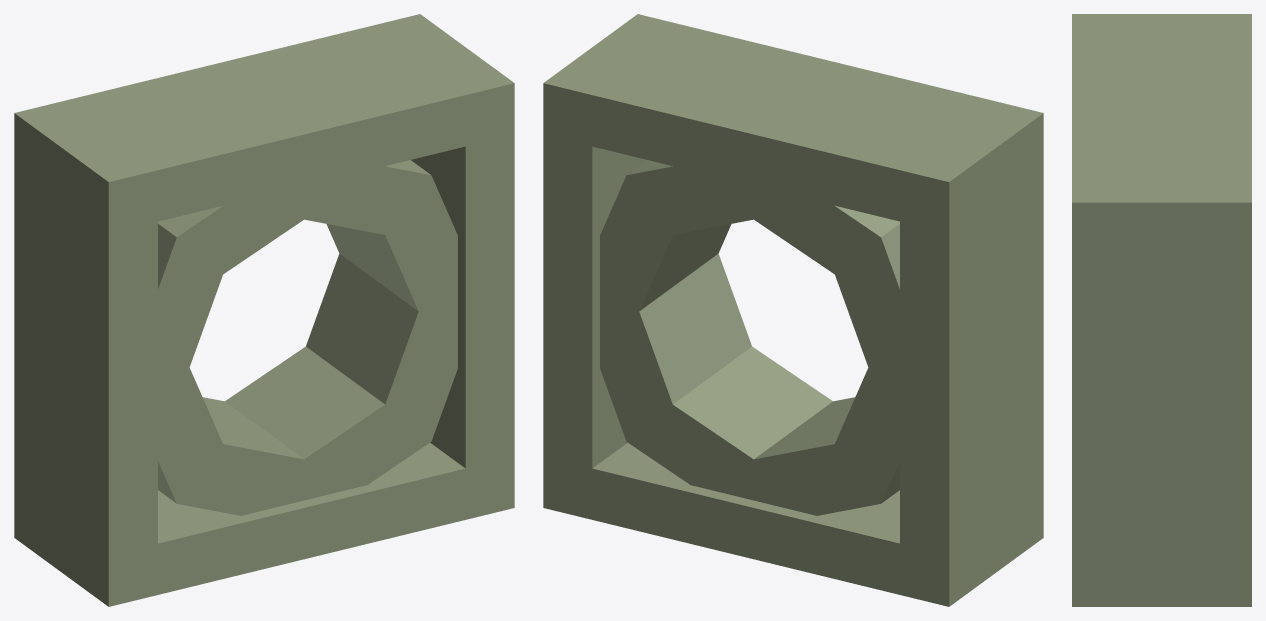
The model's file is SM_Wall_BreezeBlock_02.fbx.
3 renders of one model, left to right at view 1: azimuth 30°, elevation 25°; view 2: azimuth 150°, elevation 25°; view 3: azimuth 270°, elevation 25°, orthographic. The views are drawn at different scales.
Parts seen in each view (by area): view 1: SM_Wall_BreezeBlock_02; view 2: SM_Wall_BreezeBlock_02; view 3: SM_Wall_BreezeBlock_02.
Part boxes in pixels (x1,y1,x2,y2): SM_Wall_BreezeBlock_02: [14, 14, 514, 606]; SM_Wall_BreezeBlock_02: [543, 14, 1043, 606]; SM_Wall_BreezeBlock_02: [1072, 14, 1251, 606].
Bounding box in the file's own units: 0.248 × 0.248 × 0.1.
1 material, 1 textured.
